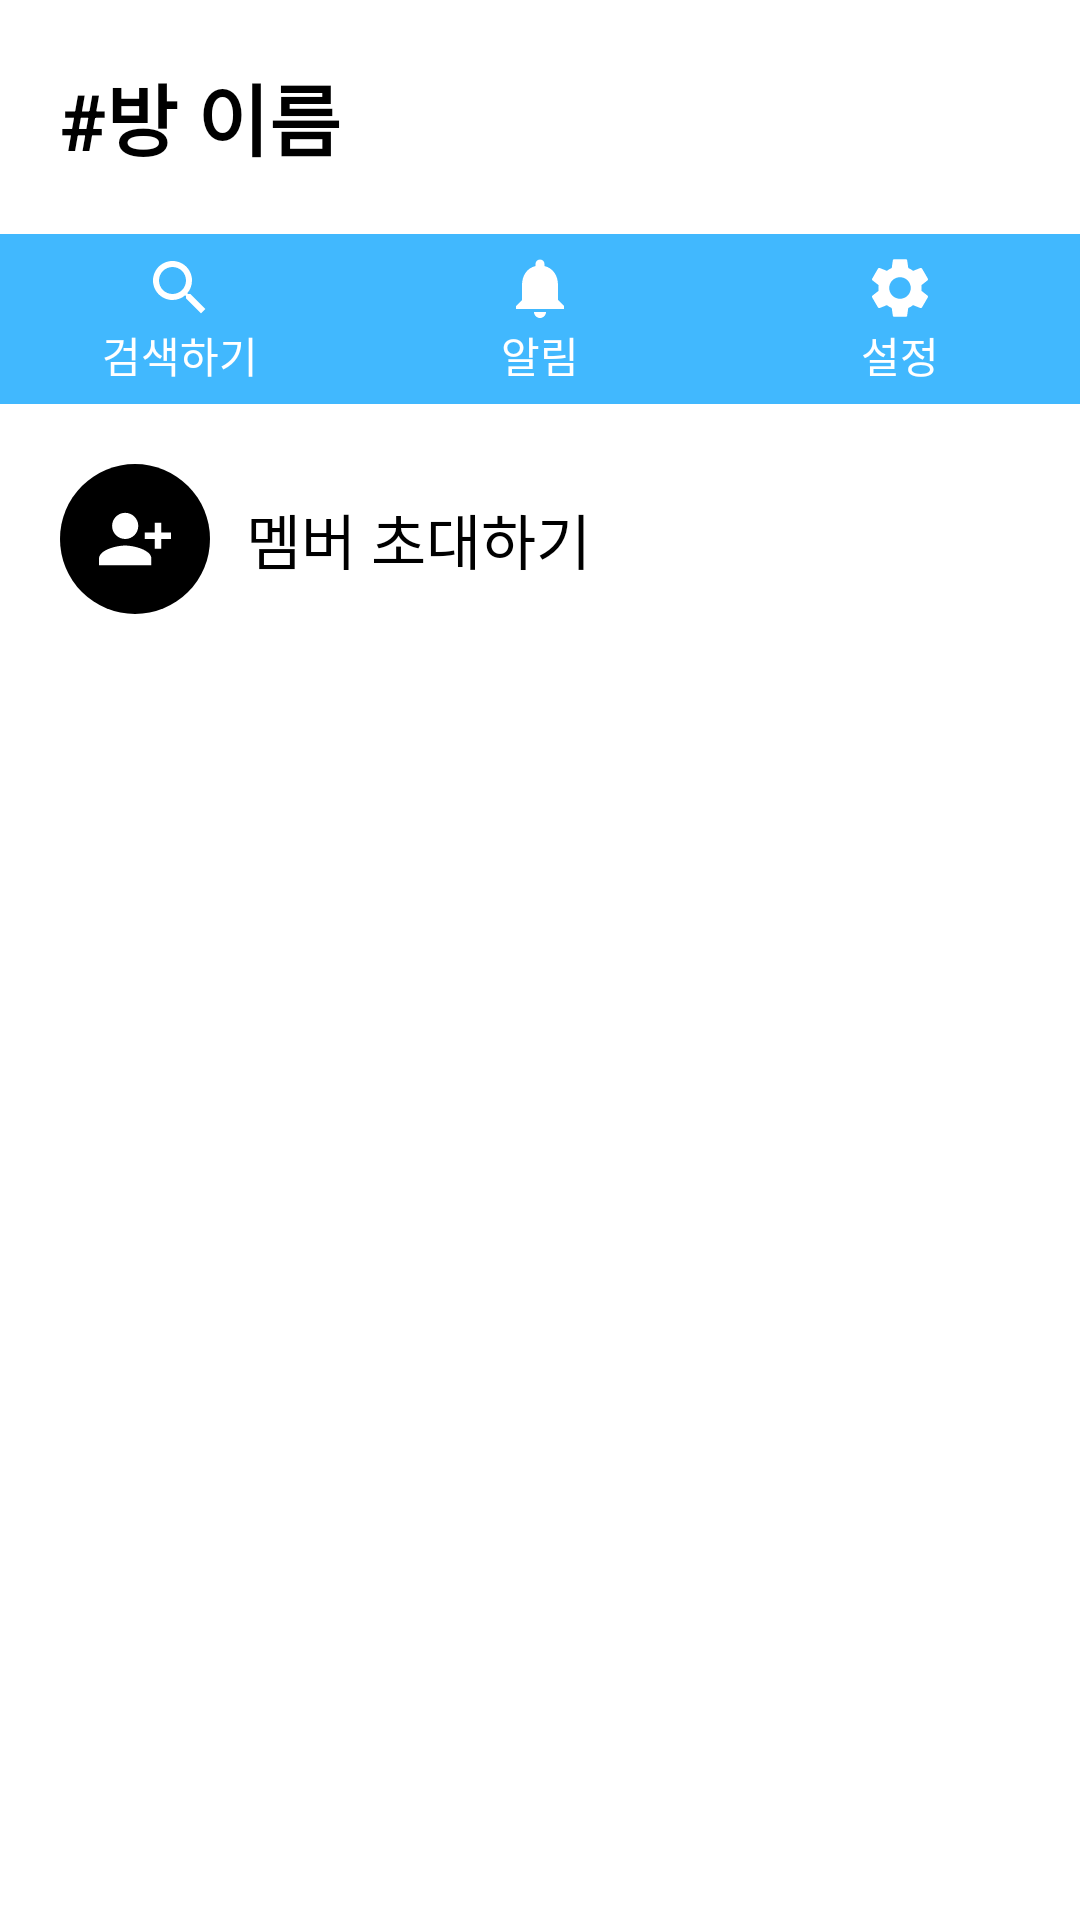

Icons on this 1080 x 1920 Android screen, each with the point to tap as point (x, y):
find friend: point (135, 539)
